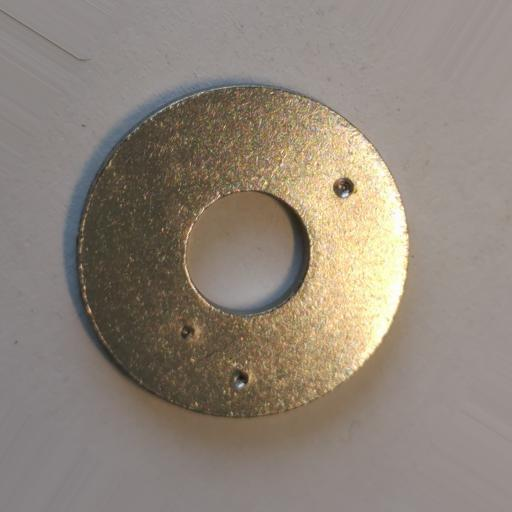circular_cavity: (333, 177, 355, 198), (231, 369, 250, 389), (180, 324, 196, 341)
